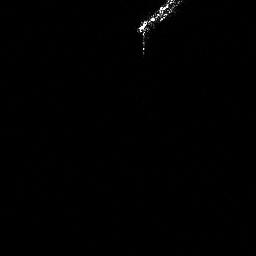ship: (135, 1, 185, 56)
